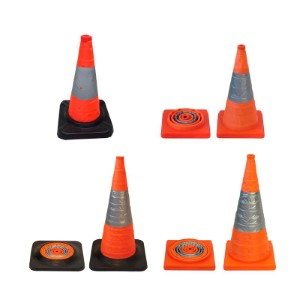traffic cone: (88, 155, 148, 272), (223, 153, 276, 270), (57, 33, 113, 139), (216, 43, 265, 138)
